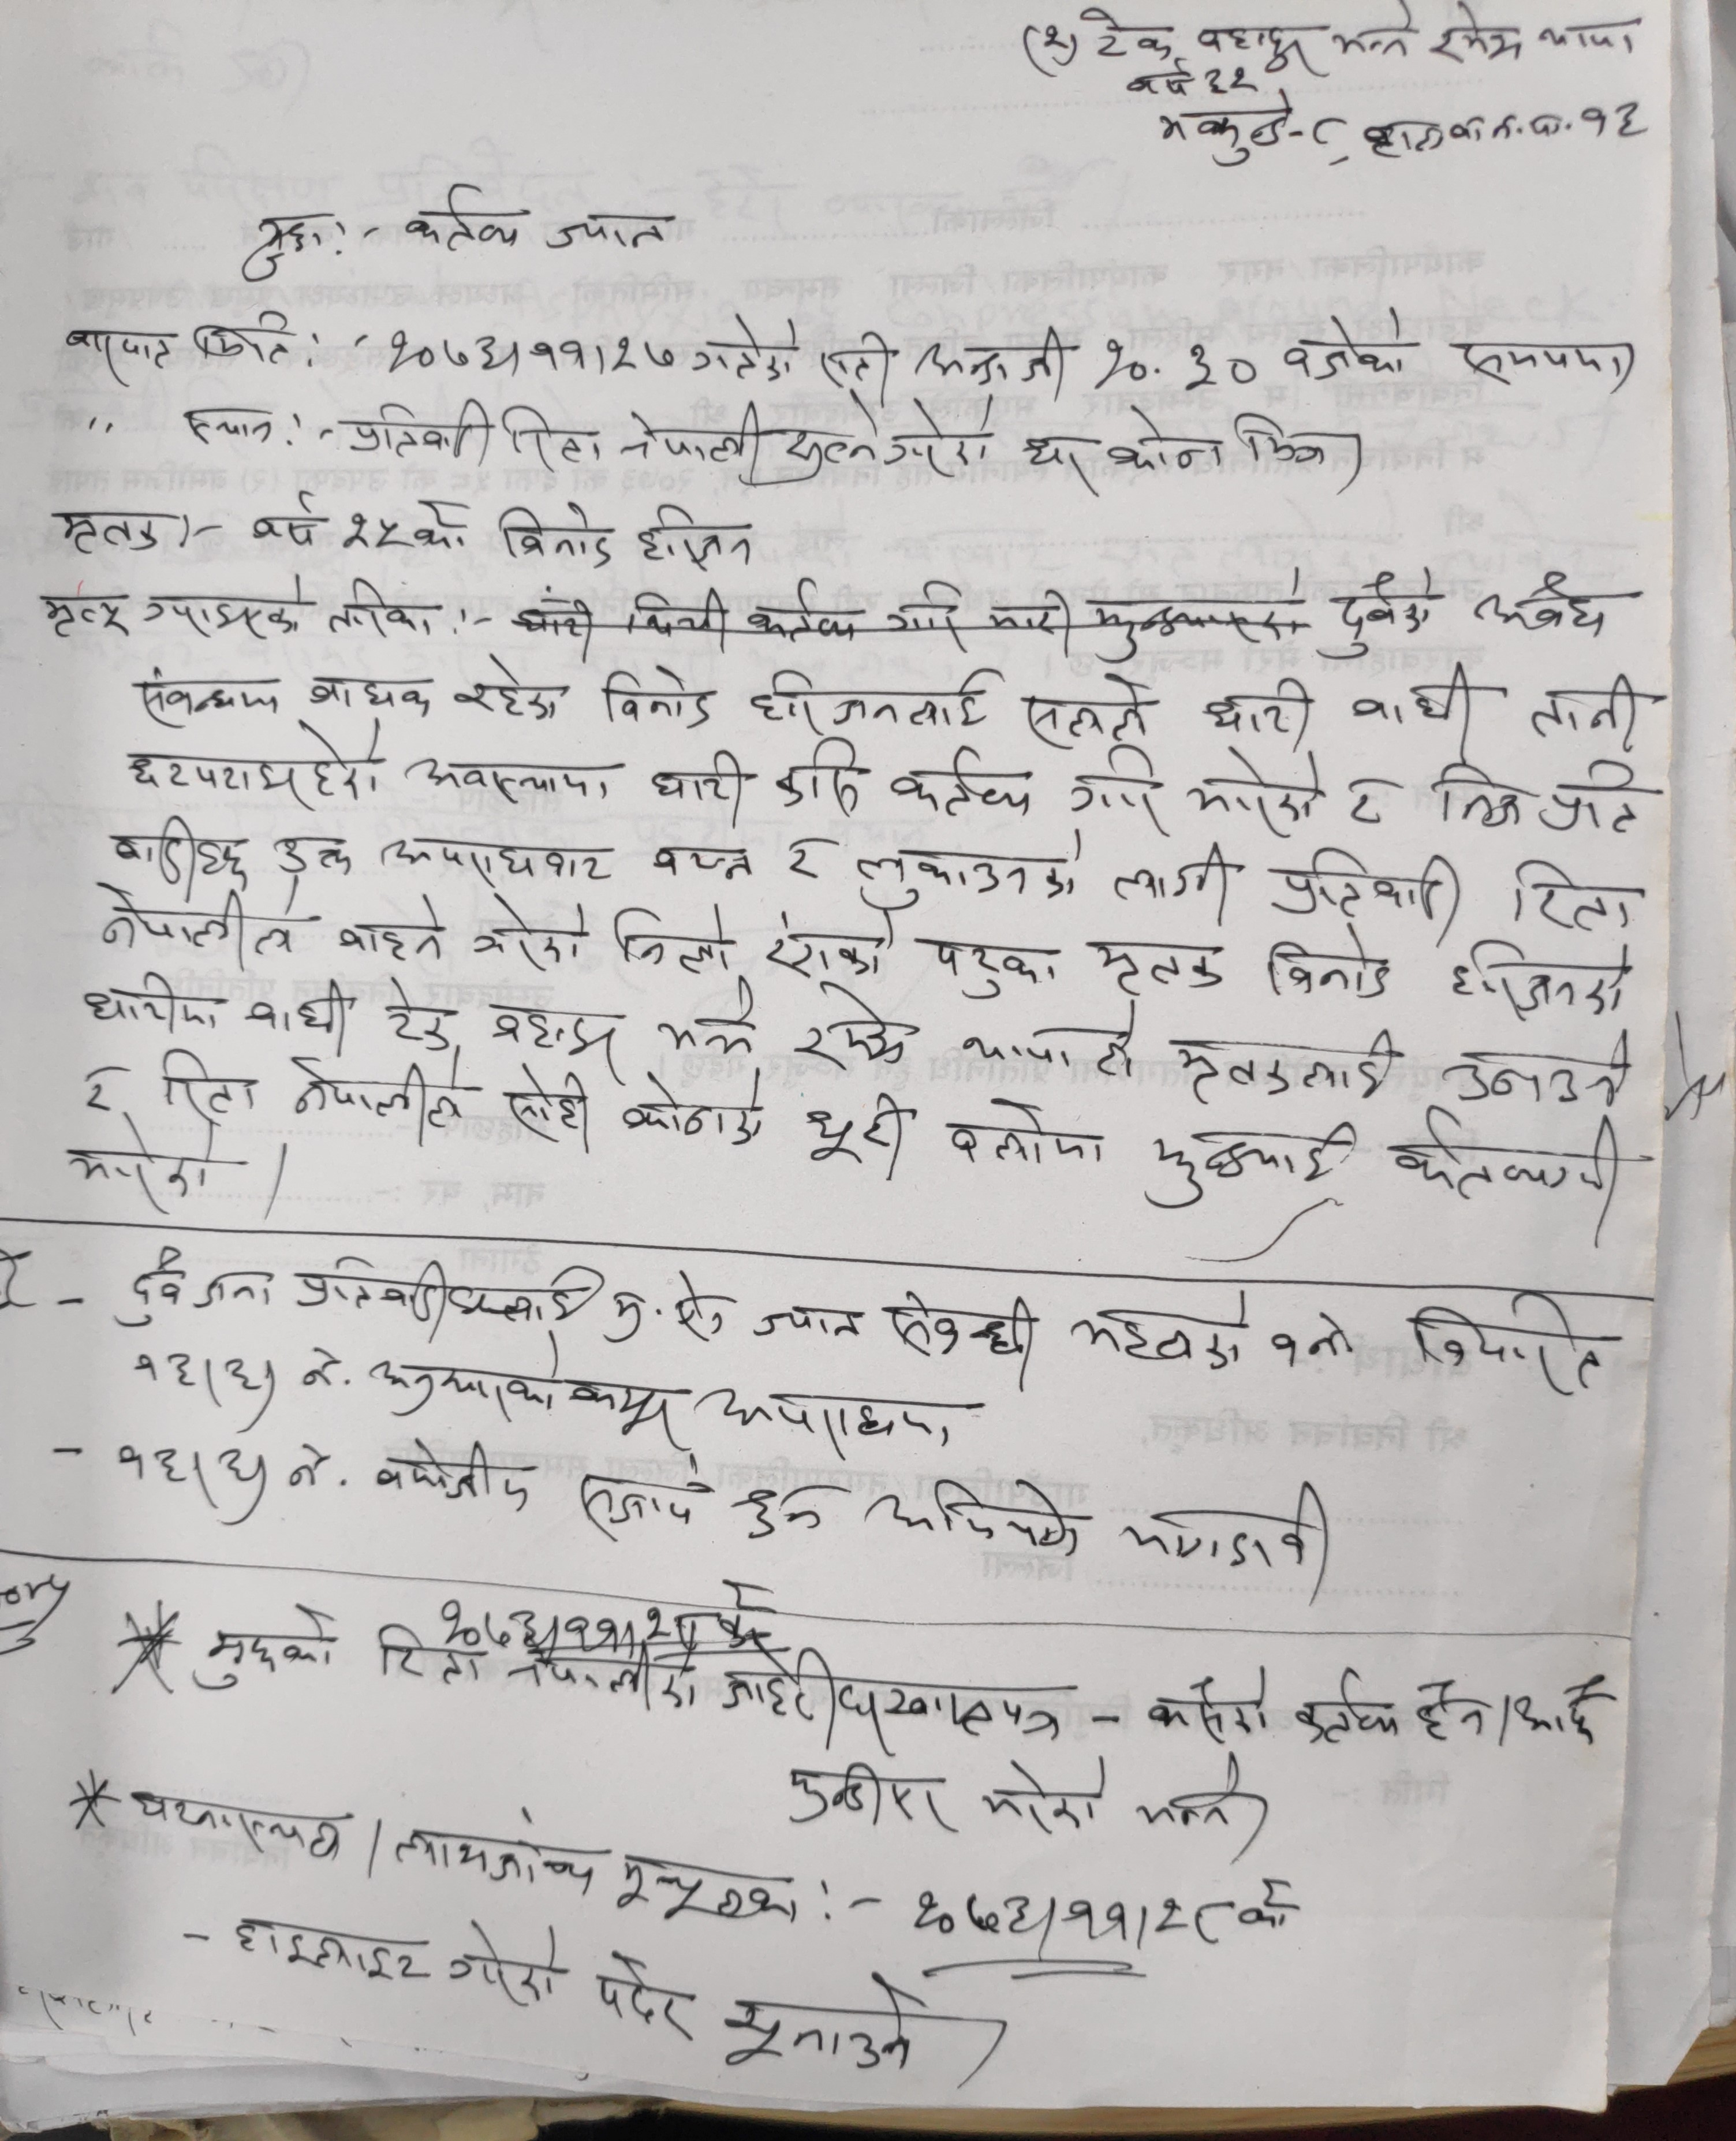text: (1385, 1107, 1623, 1234), (287, 1248, 608, 1325), (1118, 1479, 1330, 1592), (905, 1881, 1233, 1953), (721, 1967, 916, 2079), (124, 726, 384, 809), (1412, 1291, 1614, 1397), (1169, 1020, 1396, 1109), (1144, 1119, 1359, 1211), (868, 1470, 1082, 1560), (128, 1783, 358, 1865), (1270, 841, 1465, 937), (748, 659, 1003, 731), (849, 831, 1082, 908), (360, 1328, 560, 1417), (386, 322, 677, 383), (1442, 1022, 1640, 1109), (693, 1385, 955, 1450), (99, 885, 301, 969), (611, 1845, 801, 1934), (834, 1668, 1068, 1739), (395, 1820, 606, 1898), (282, 1050, 462, 1140), (1070, 1284, 1251, 1374), (232, 1913, 429, 1990), (1449, 939, 1635, 1020), (962, 1001, 1144, 1080), (66, 1125, 223, 1215), (880, 1289, 1043, 1376), (609, 390, 765, 478), (372, 1433, 537, 1516), (1187, 746, 1327, 843), (787, 1758, 960, 1836), (1130, 1755, 1274, 1845), (195, 1603, 335, 1693), (948, 1093, 1105, 1172), (402, 753, 616, 811), (140, 572, 314, 643), (618, 1066, 769, 1148), (909, 322, 1077, 395), (374, 836, 620, 885), (719, 1640, 840, 1739), (886, 746, 1038, 822), (792, 979, 911, 1073), (593, 1950, 705, 2049), (760, 900, 898, 979), (1233, 409, 1371, 487), (1323, 568, 1440, 661), (1114, 843, 1240, 928), (335, 400, 498, 466), (978, 1755, 1109, 1836), (106, 815, 252, 887), (131, 661, 280, 731), (1153, 92, 1291, 168), (1507, 855, 1635, 937), (448, 1920, 565, 2008), (1146, 1663, 1272, 1744), (1279, 308, 1410, 386), (608, 900, 737, 978), (611, 1266, 728, 1351), (76, 969, 223, 1036), (1353, 662, 1476, 742), (1453, 340, 1642, 391), (1291, 1663, 1401, 1751), (469, 889, 588, 970), (1019, 671, 1150, 744), (880, 397, 996, 478), (801, 1087, 909, 1174), (570, 1374, 687, 1454), (1104, 402, 1228, 476), (1483, 570, 1612, 641), (402, 182, 524, 255), (636, 498, 758, 570), (657, 979, 760, 1064), (453, 652, 565, 730), (574, 1470, 696, 1541), (492, 499, 613, 570), (1541, 756, 1646, 838), (237, 209, 349, 285), (686, 313, 802, 386), (1263, 935, 1392, 1001), (1529, 671, 1644, 744), (333, 894, 448, 967), (489, 1001, 627, 1061), (1065, 747, 1164, 831), (498, 400, 606, 476), (324, 570, 432, 646), (1511, 1672, 1614, 1751), (501, 1063, 595, 1148), (781, 395, 879, 476), (1089, 937, 1229, 993), (930, 939, 1058, 1001), (151, 1045, 257, 1119), (246, 972, 354, 1045), (772, 735, 868, 816), (1201, 675, 1316, 740), (601, 664, 714, 730), (60, 321, 172, 386), (1433, 756, 1522, 838), (647, 747, 746, 818), (737, 1479, 836, 1546), (377, 969, 455, 1054), (1428, 4, 1529, 69), (112, 1243, 188, 1328), (50, 506, 170, 560), (299, 675, 434, 721), (1077, 0, 1173, 64), (188, 312, 298, 367), (1410, 1677, 1495, 1746), (1017, 430, 1100, 499), (546, 209, 673, 253), (1270, 1310, 1359, 1374), (177, 402, 278, 455), (1194, 23, 1314, 67), (748, 1302, 868, 1346), (28, 588, 135, 638), (817, 329, 896, 393), (374, 1643, 484, 1689), (1332, 9, 1419, 66), (1445, 106, 1569, 145), (654, 839, 755, 885), (246, 491, 322, 551), (1536, 14, 1642, 57), (1182, 342, 1259, 395), (193, 1266, 278, 1314), (406, 496, 471, 558), (1364, 112, 1447, 159), (1089, 333, 1153, 395), (275, 831, 356, 878), (342, 510, 406, 563), (117, 1440, 181, 1493), (1236, 1882, 1293, 1939), (1341, 772, 1399, 827), (1580, 97, 1642, 145), (783, 834, 834, 891), (129, 1349, 197, 1388), (80, 1055, 120, 1117)
